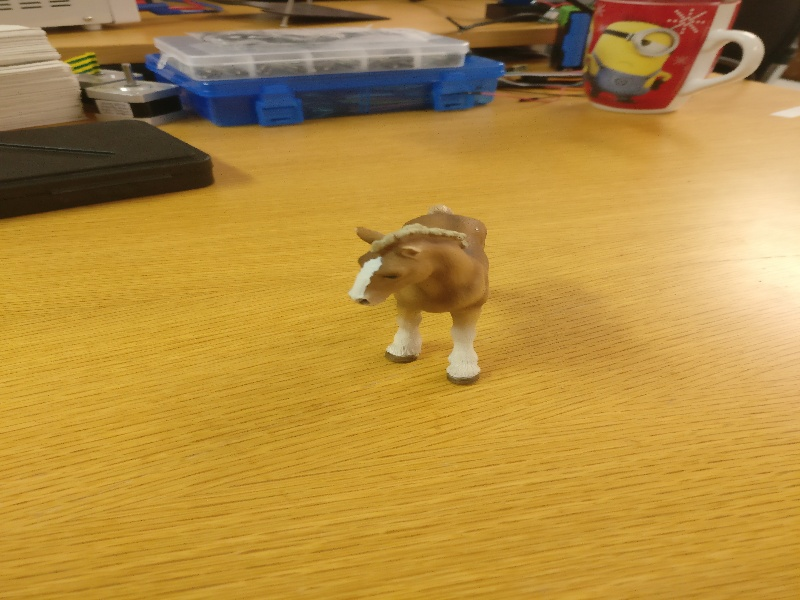toy: (335, 197, 511, 387)
